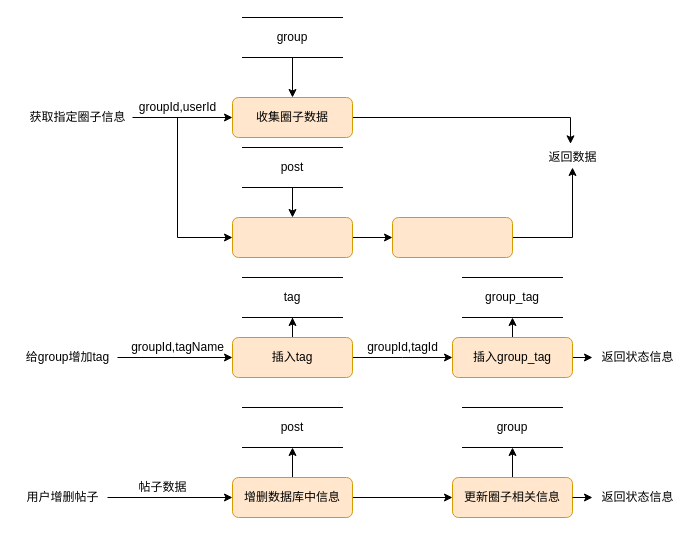
Image size: 699x535. Some labels were removed from this diagram. Here are the shapes that lost their labels. From the top down, the box of each, then its label:
(232, 216, 352, 258): 收集圈子包含的帖子数据
(392, 216, 512, 258): 对帖子进行热度排序
